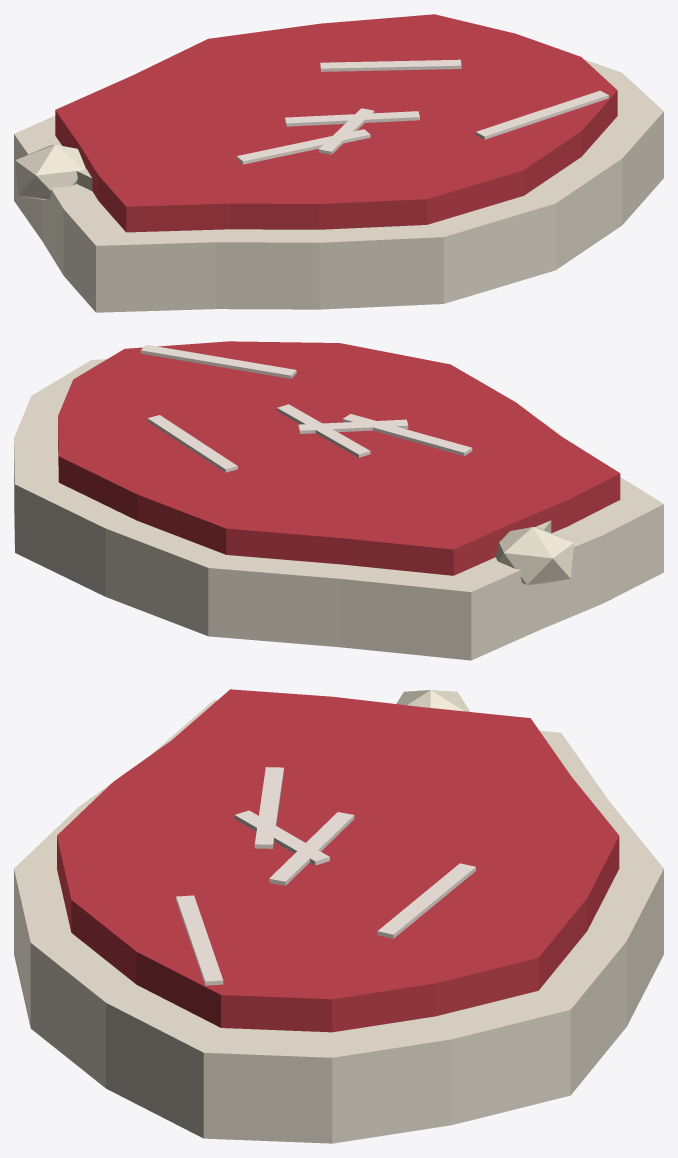
Rendered from carne_crua.glb.
The picture shows the model from 3 angles, top to bottom: view 1: azimuth 30°, elevation 25°; view 2: azimuth 150°, elevation 25°; view 3: azimuth 270°, elevation 25°; orthographic projection. The views are drawn at different scales.
Visible parts, largest first — view 1: carne_crua; view 2: carne_crua; view 3: carne_crua.
Part boxes in pixels (x1,y1,x2,y2): carne_crua: [14, 14, 663, 312]; carne_crua: [14, 341, 663, 660]; carne_crua: [14, 689, 663, 1143].
Bounding box in the file's own units: 0.2327 × 0.0373 × 0.1784.
